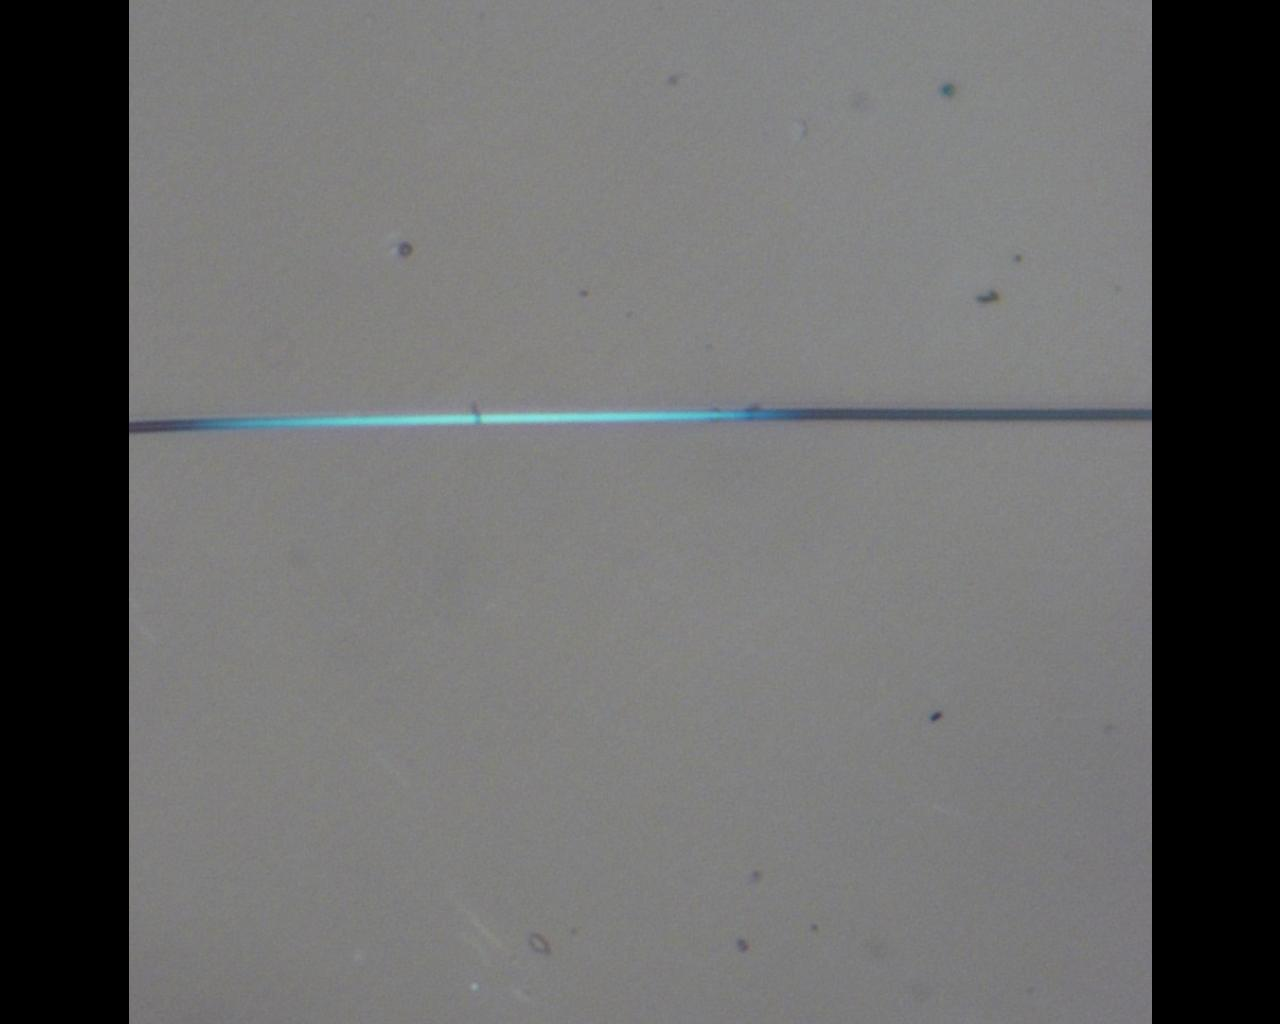fiber: (127, 408, 1151, 435)
